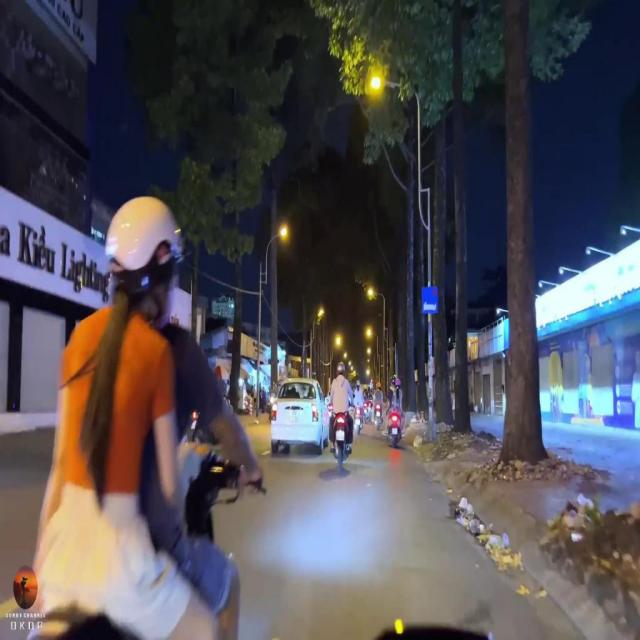khac: (421, 286, 439, 315)
